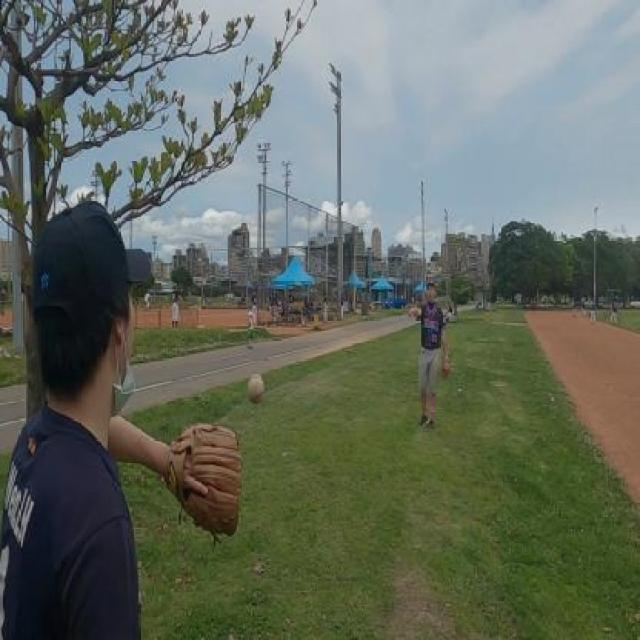baseball: (248, 372, 264, 408)
